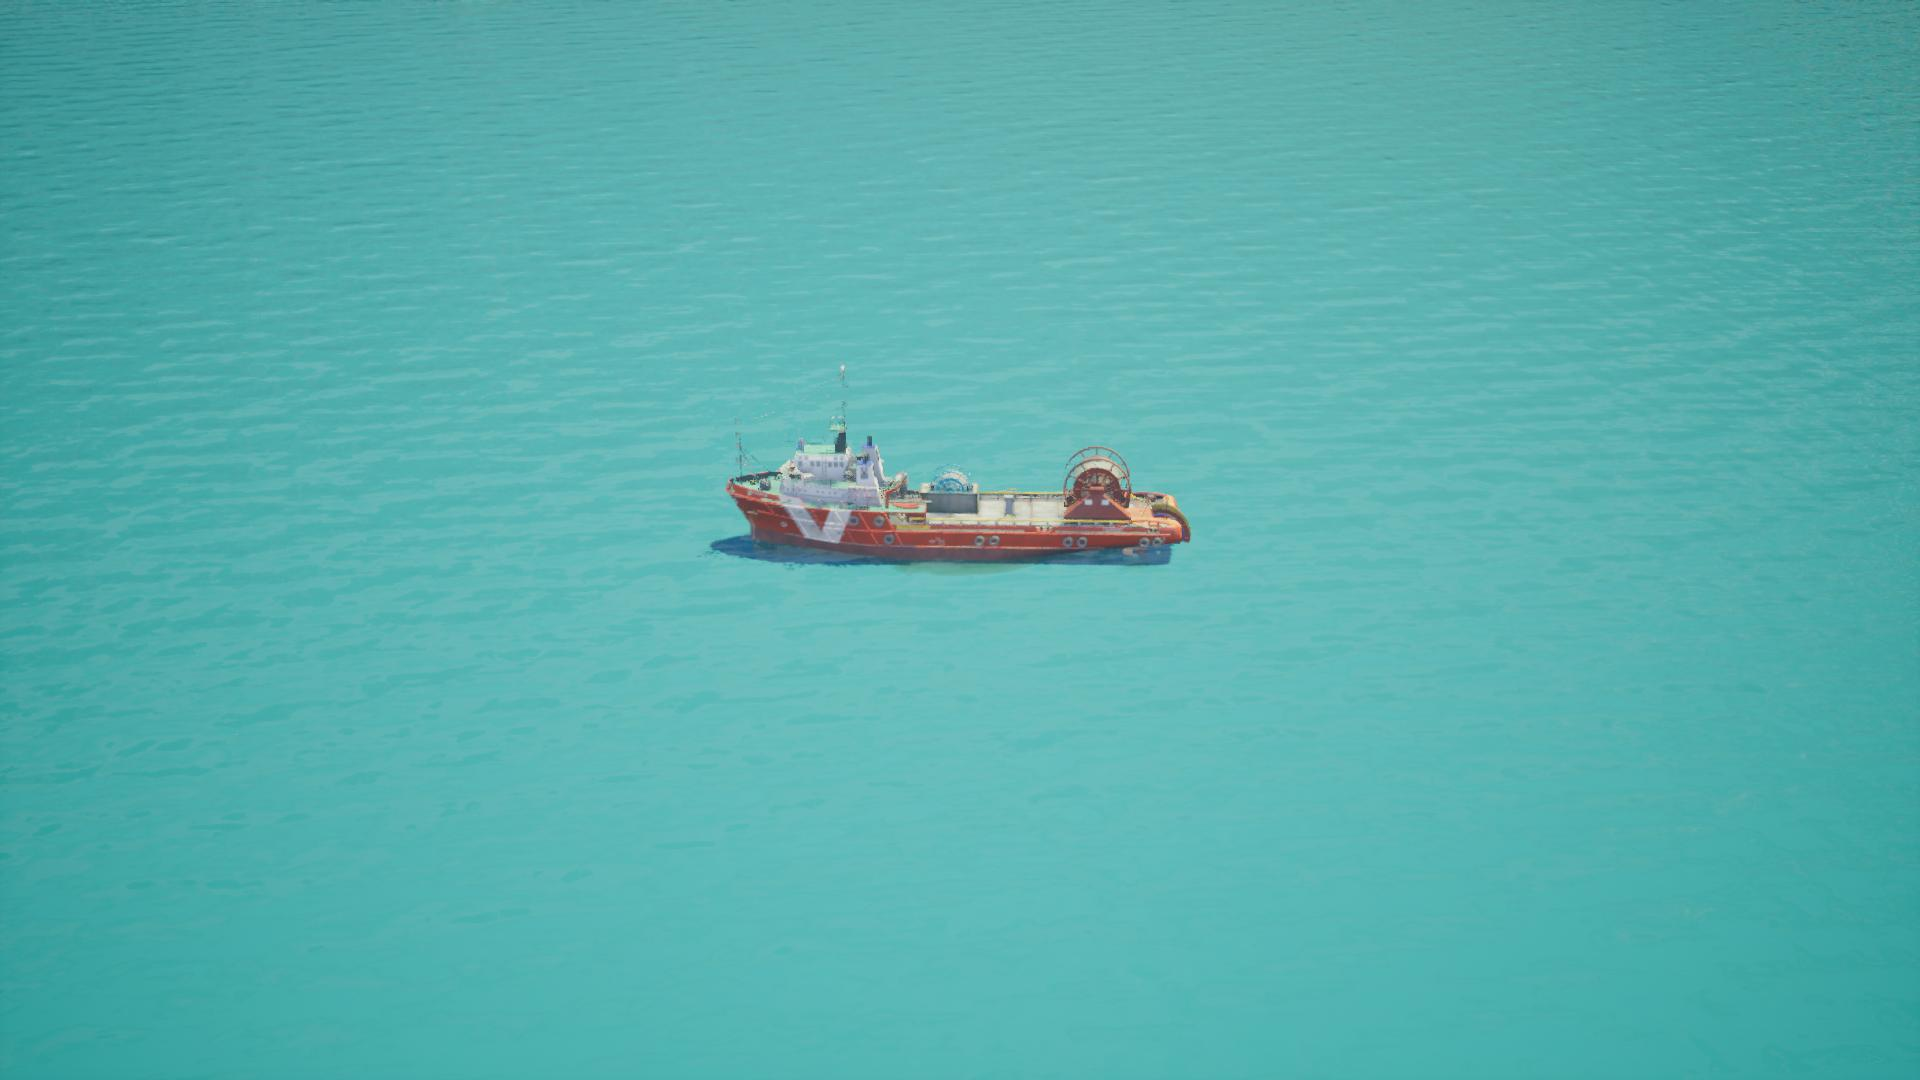Tug Boat: (713, 364, 1201, 568)
